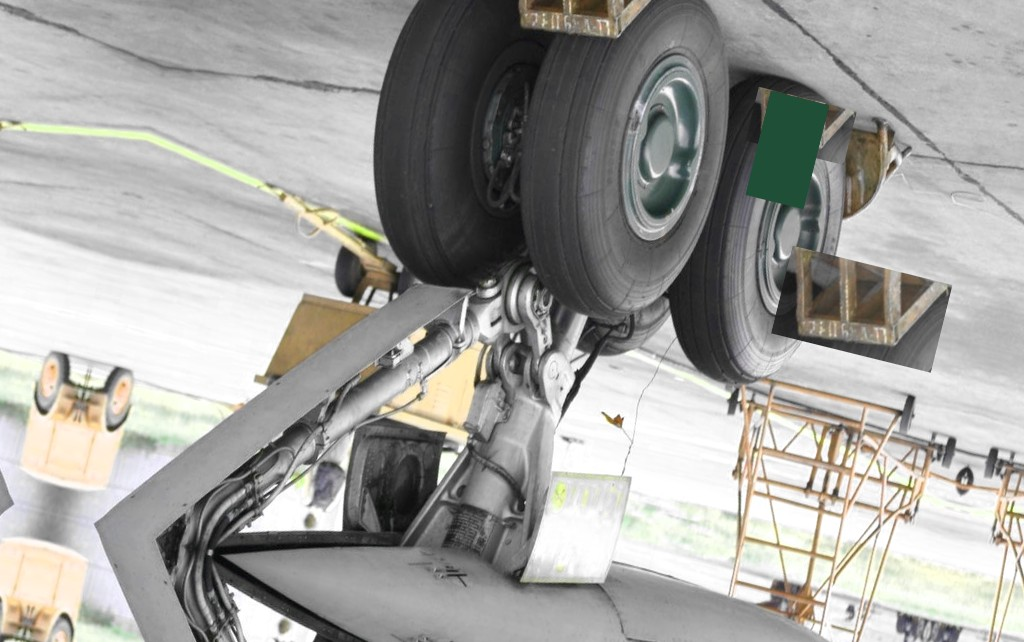chock: (771, 246, 952, 373), (821, 110, 921, 232), (493, 0, 675, 64), (746, 87, 857, 165)
wheel: (483, 0, 766, 340), (338, 0, 587, 302), (659, 67, 876, 404), (571, 282, 673, 370)
